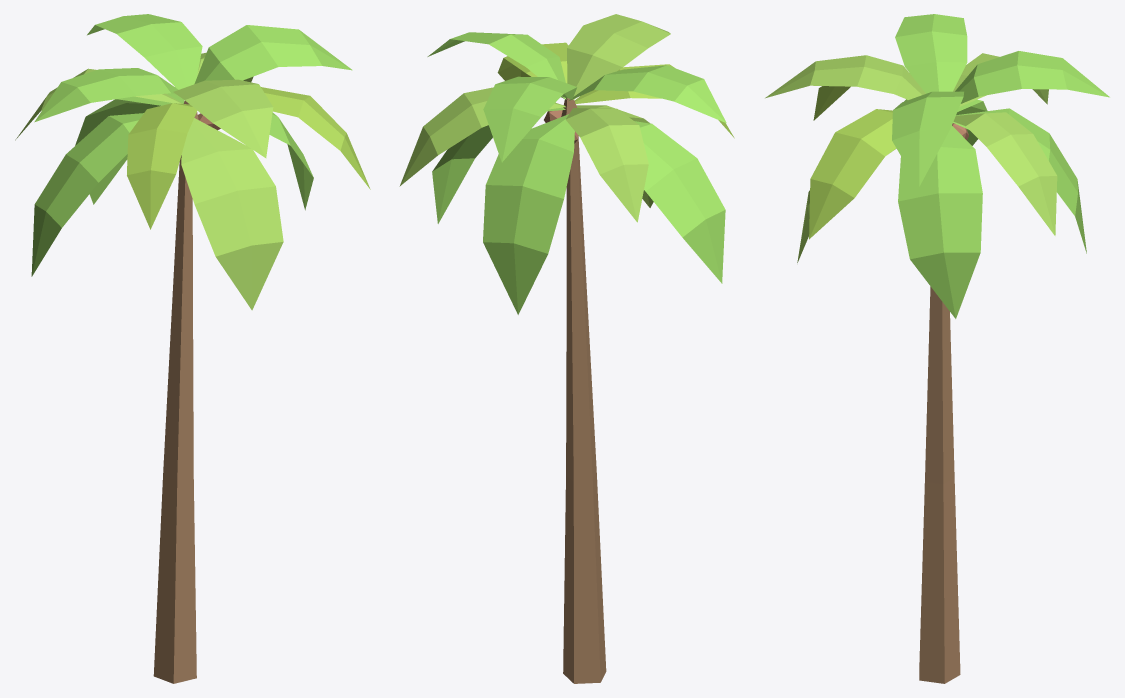
File: Palm_Tree_Coconut_OneSided_l_01_LOD.fbx
3 renders of one model, left to right at view 1: azimuth 30°, elevation 25°; view 2: azimuth 150°, elevation 25°; view 3: azimuth 270°, elevation 25°, orthographic.
Visible parts, largest first — view 1: Palm_Tree_Coconut_OneSided_l_01_LOD0; view 2: Palm_Tree_Coconut_OneSided_l_01_LOD0; view 3: Palm_Tree_Coconut_OneSided_l_01_LOD0.
Boxes of the visible parts, x1,y1,x2,y2 form: Palm_Tree_Coconut_OneSided_l_01_LOD0: [15, 14, 370, 683]; Palm_Tree_Coconut_OneSided_l_01_LOD0: [399, 14, 734, 683]; Palm_Tree_Coconut_OneSided_l_01_LOD0: [765, 14, 1109, 683].
Size of what is drawn, in the model's own units: 430 by 823 by 417.
